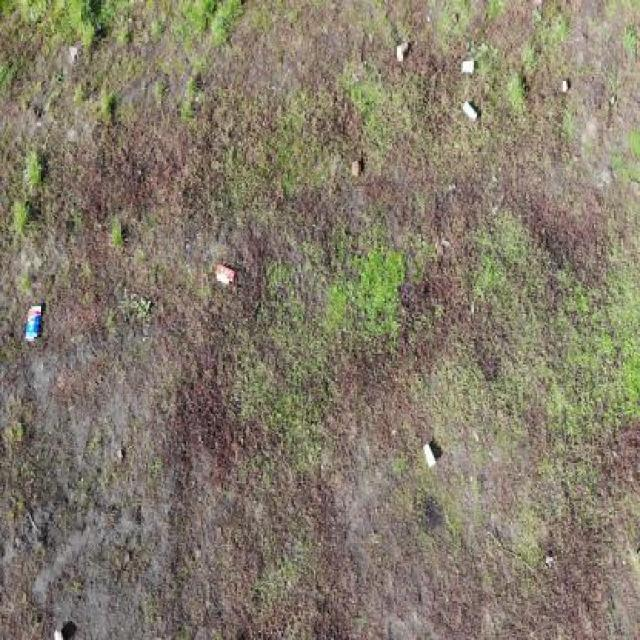Garbage: (25, 304, 42, 341), (217, 264, 237, 285), (422, 443, 437, 468), (462, 100, 479, 121), (462, 60, 475, 77), (54, 630, 64, 639)
